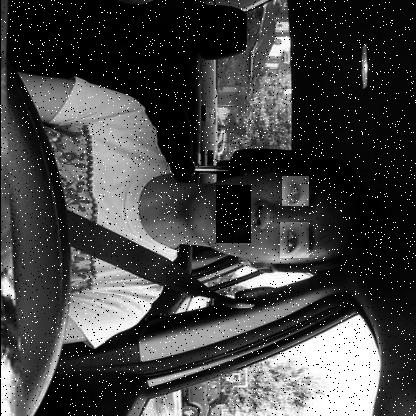seatbelt: (72, 141, 392, 290)
